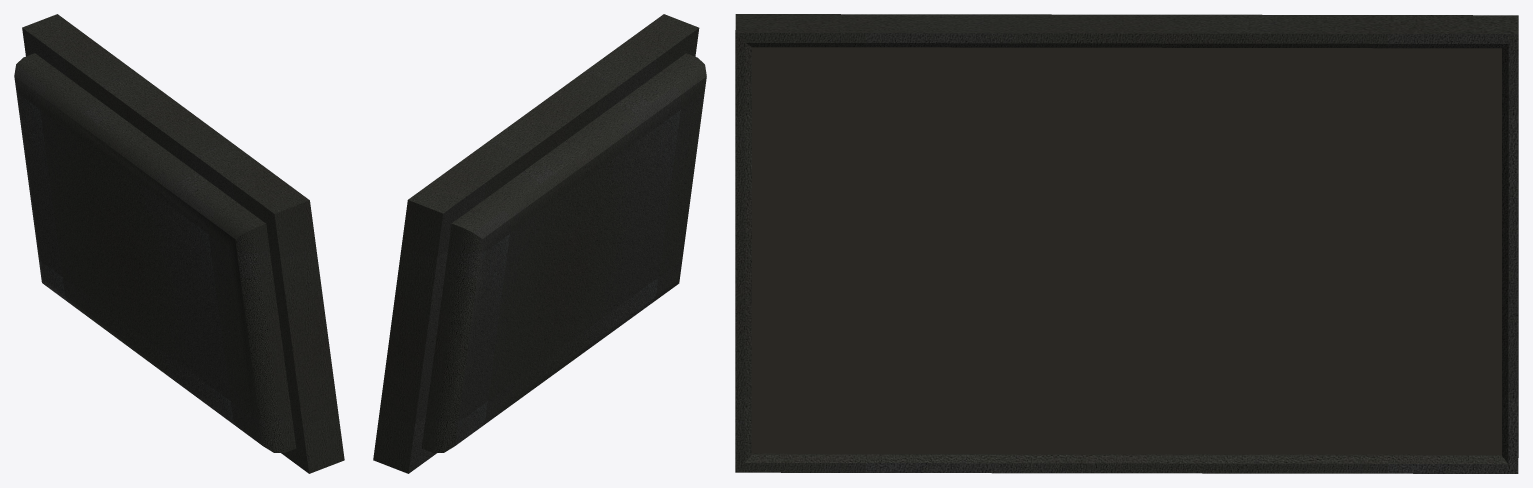
The model's file is big monitor.glb.
The picture shows the model from 3 angles, left to right: view 1: azimuth 30°, elevation 25°; view 2: azimuth 150°, elevation 25°; view 3: azimuth 270°, elevation 25°; orthographic projection. The views are drawn at different scales.
Visible parts, largest first — view 1: pCube15; view 2: pCube15; view 3: pCube15.
Boxes of the visible parts, x1,y1,x2,y2 form: pCube15: (14, 14, 344, 473); pCube15: (373, 14, 706, 473); pCube15: (735, 14, 1518, 473).
Size of the model in its own units: 0.2557 by 0.6945 by 1.17.
Materials: 2 (1 with a texture image).
